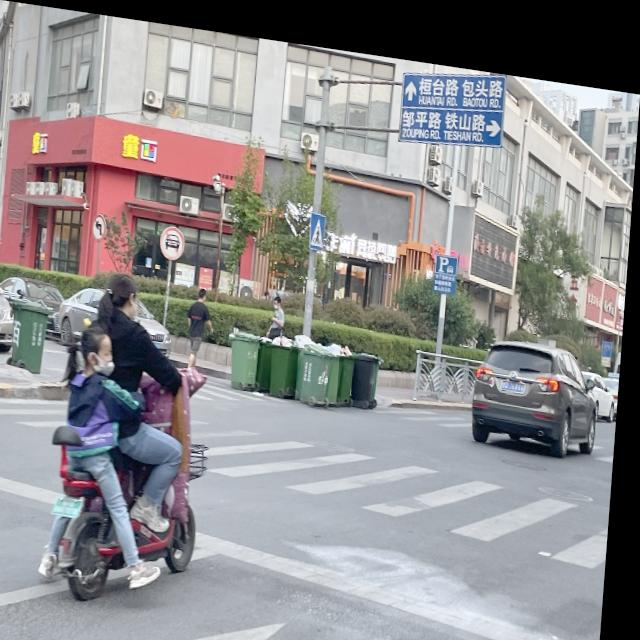garbage_bin: (10, 294, 57, 373), (231, 320, 264, 376), (357, 339, 383, 391)
overflow: (300, 332, 337, 393), (273, 325, 305, 391), (326, 332, 347, 394), (342, 332, 360, 392), (261, 327, 277, 381)
